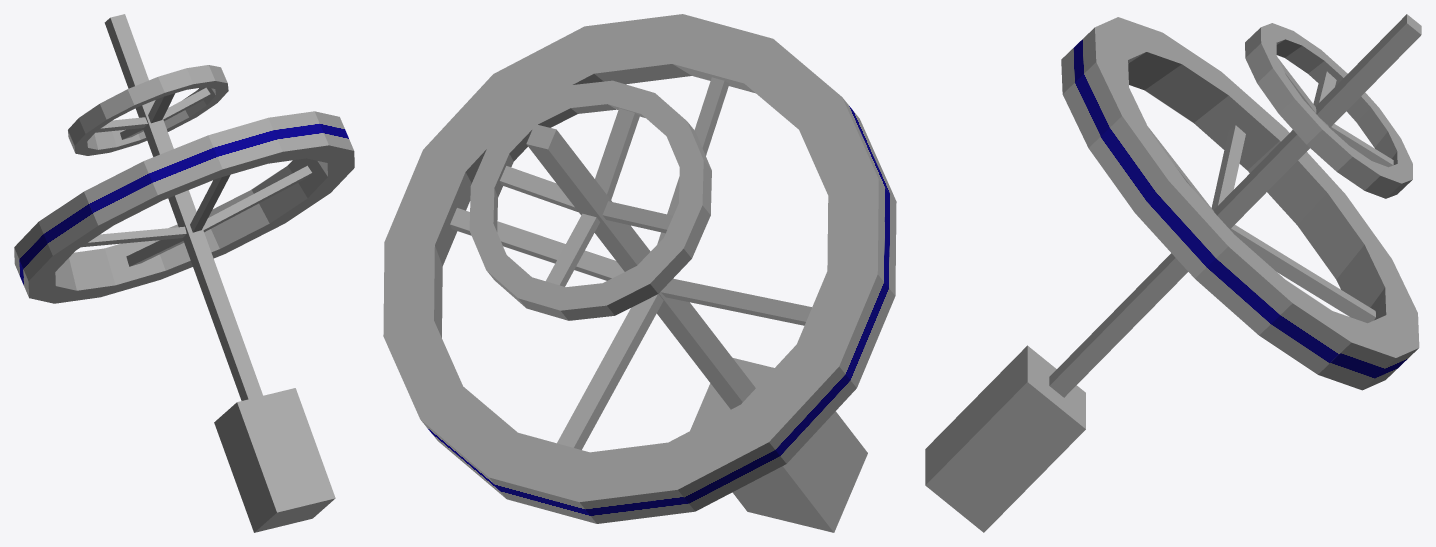
The model's file is station.obj.
The picture shows the model from 3 angles, left to right: view 1: azimuth 30°, elevation 25°; view 2: azimuth 150°, elevation 25°; view 3: azimuth 270°, elevation 25°; orthographic projection. The views are drawn at different scales.
Parts seen in each view (by area): view 1: Cylinder.001; view 2: Cylinder.001; view 3: Cylinder.001.
Boxes of the visible parts, bbox=[...] form: Cylinder.001: bbox=[14, 14, 354, 532]; Cylinder.001: bbox=[383, 14, 896, 532]; Cylinder.001: bbox=[925, 14, 1421, 532].
Size of the model in its own units: 11.39 by 13.79 by 12.5.
2 materials, 2 textured.
